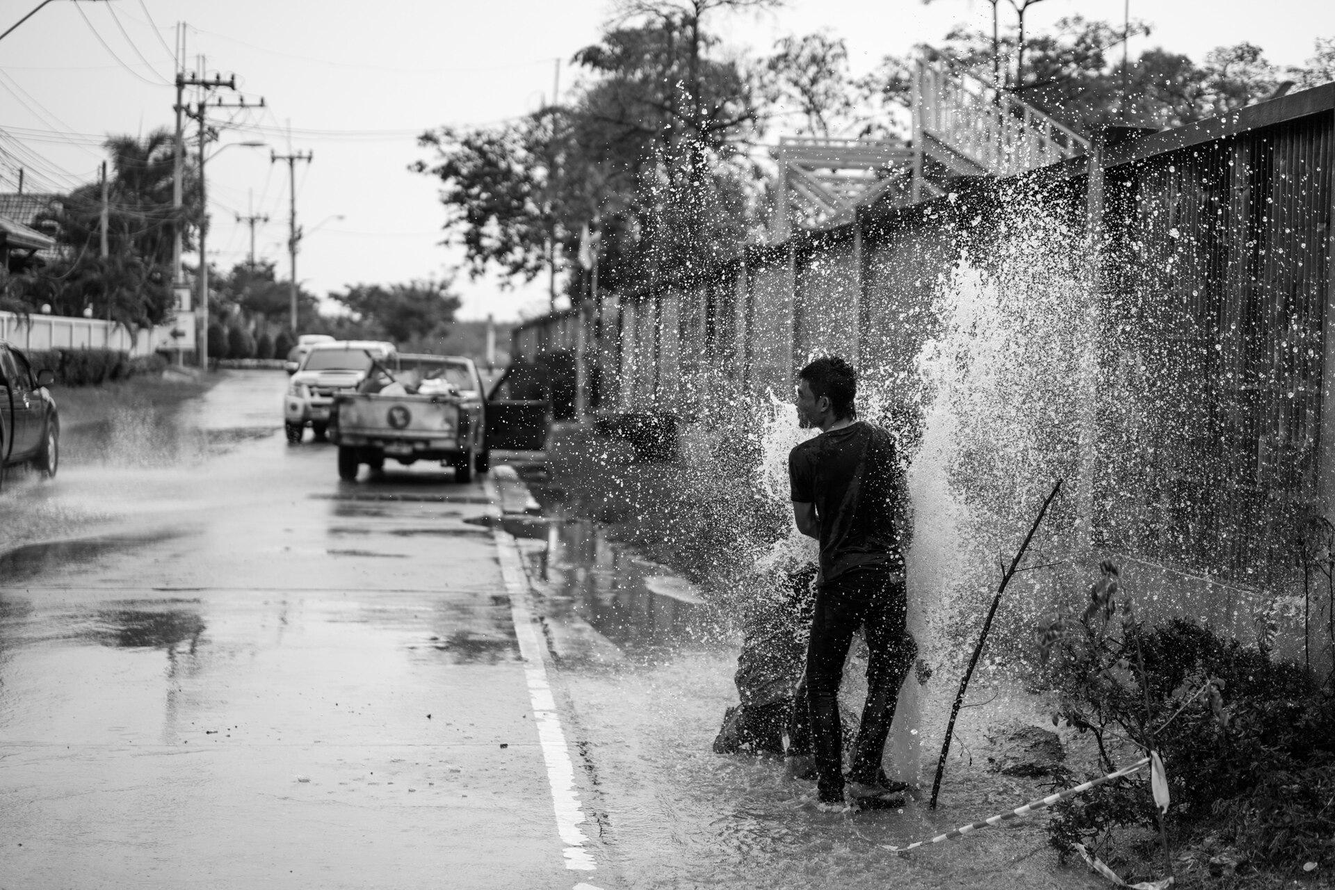pipe burst: (756, 206, 1065, 801)
water accumulation: (0, 415, 740, 890)
